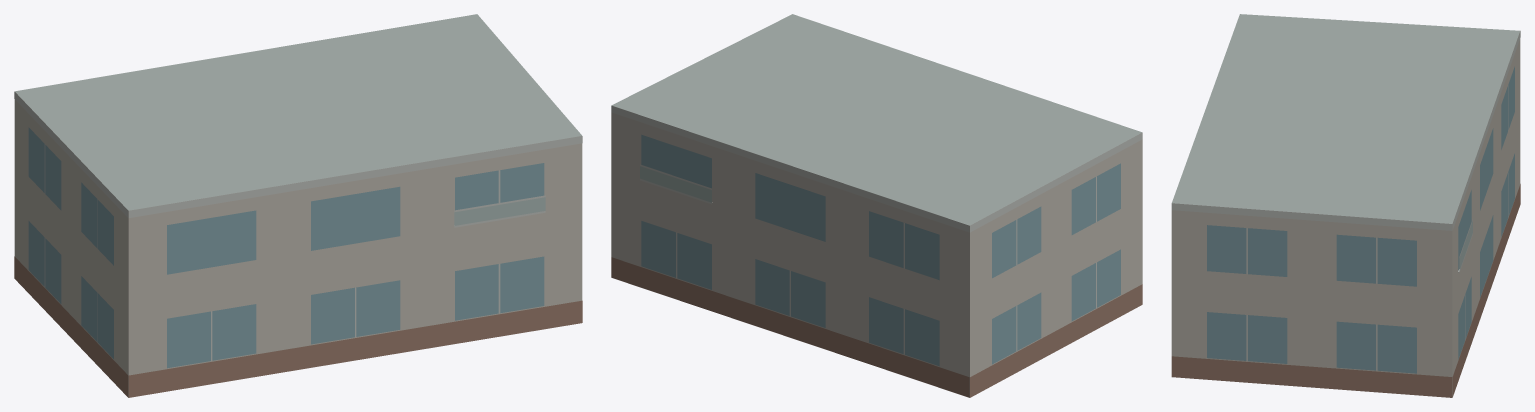
Rendered from survey-upis-32653185.glb.
The picture shows the model from 3 angles, left to right: view 1: azimuth 30°, elevation 25°; view 2: azimuth 150°, elevation 25°; view 3: azimuth 270°, elevation 25°; orthographic projection. The views are drawn at different scales.
Parts seen in each view (by area): view 1: survey-upis-32653185.tmp; view 2: survey-upis-32653185.tmp; view 3: survey-upis-32653185.tmp.
Boxes of the visible parts, box(x1,y1,x2,y2) form: survey-upis-32653185.tmp: box(14, 14, 582, 397); survey-upis-32653185.tmp: box(611, 14, 1142, 397); survey-upis-32653185.tmp: box(1171, 14, 1520, 397).
Bounding box in the file's own units: 15.81 × 6.1 × 11.1.
